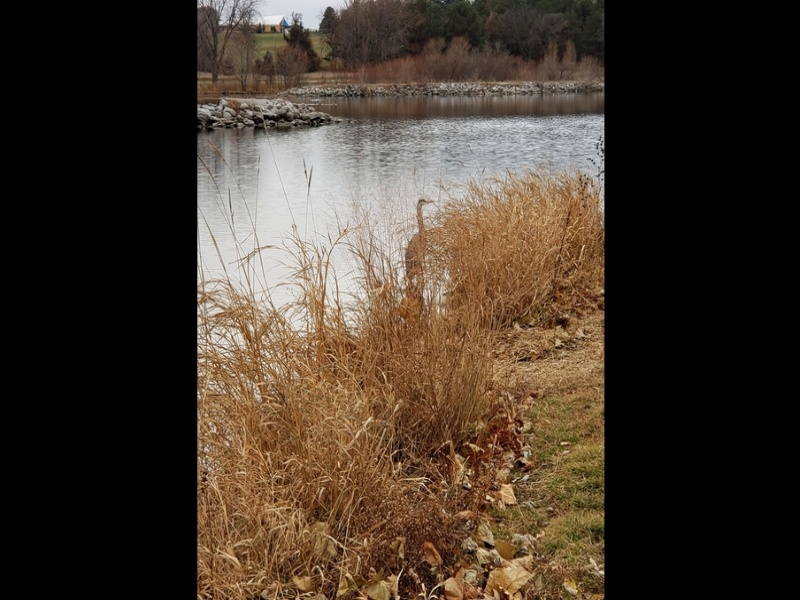heron: (406, 194, 436, 291)
